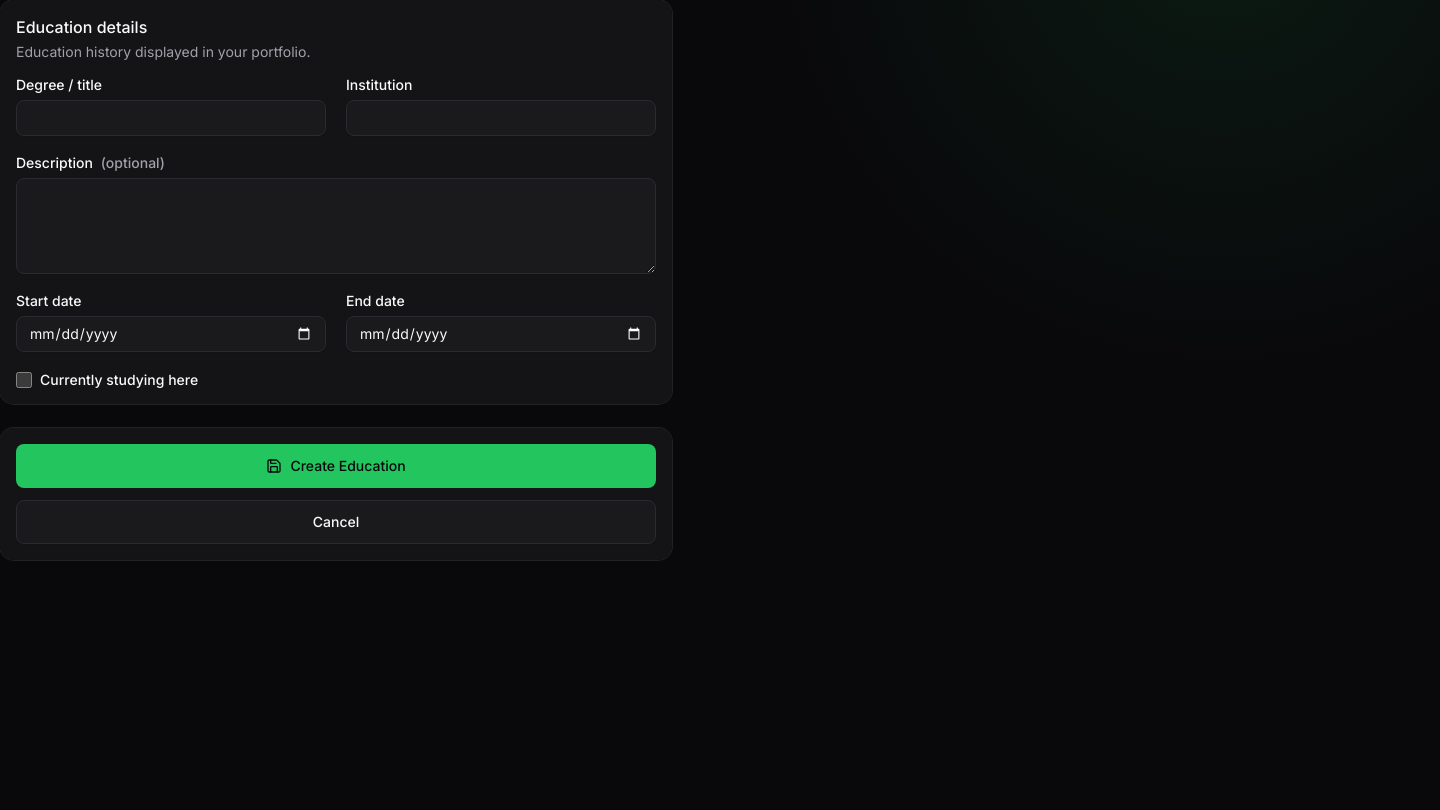
Test: EducationForm › shows root error when submission fails
Step 1. Type "BSc CS" into the field labelled "Degree / title" → (171, 118), box [16, 100, 326, 136]
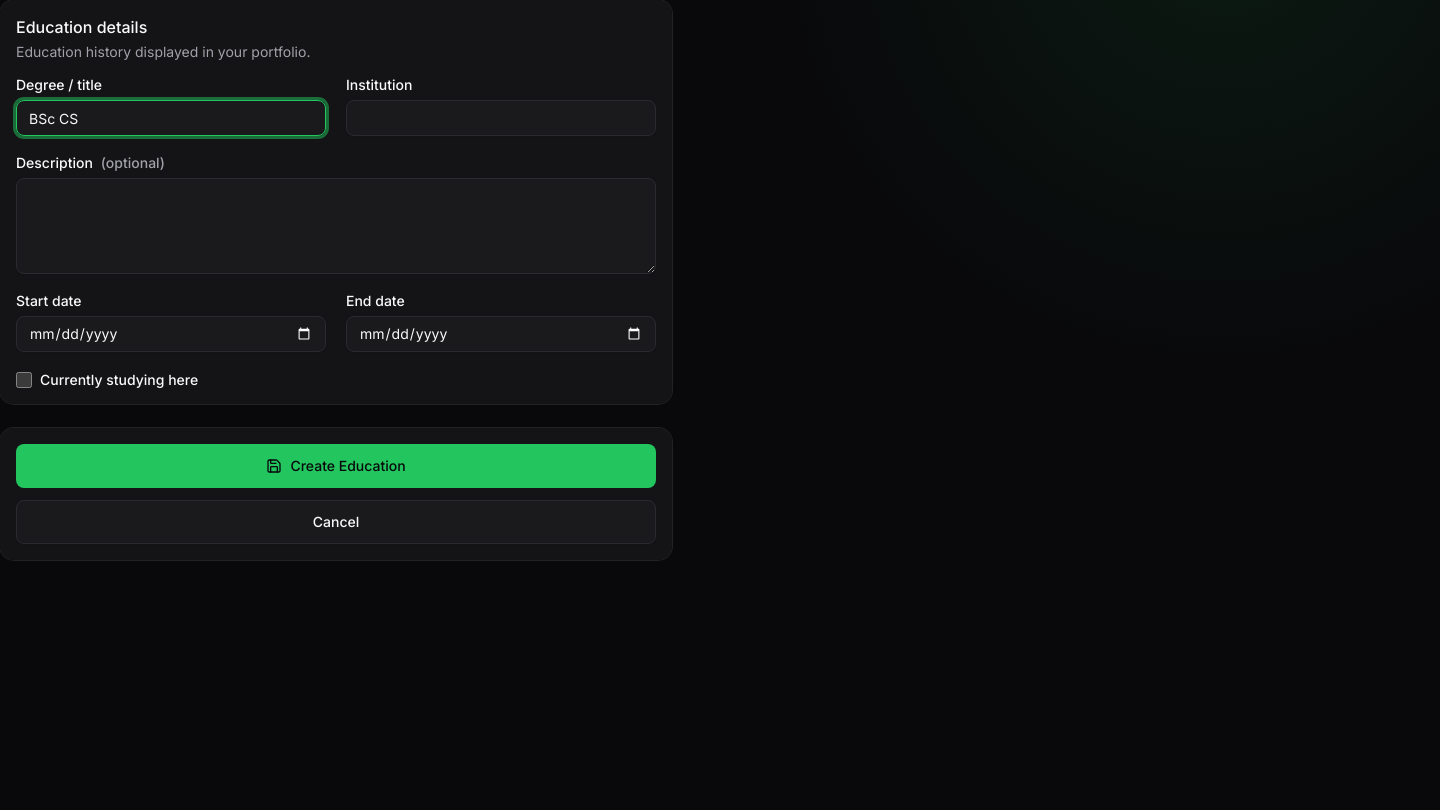
Step 2. Type "MIT" into the field labelled "Institution" → (501, 118), box [346, 100, 656, 136]
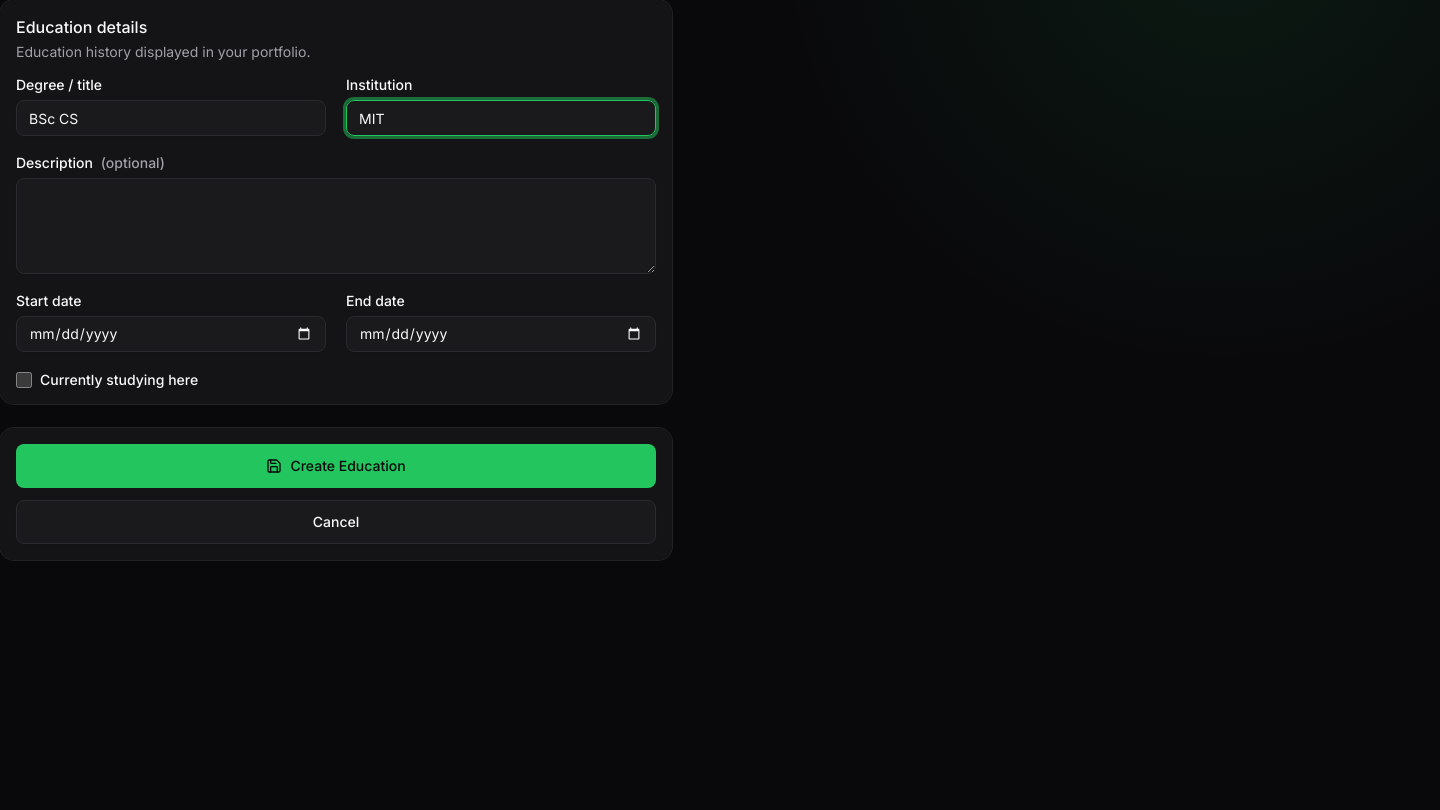
Step 3. Type "2018-09-01" into the date field labelled "Start date" → (171, 334), box [16, 316, 326, 352]
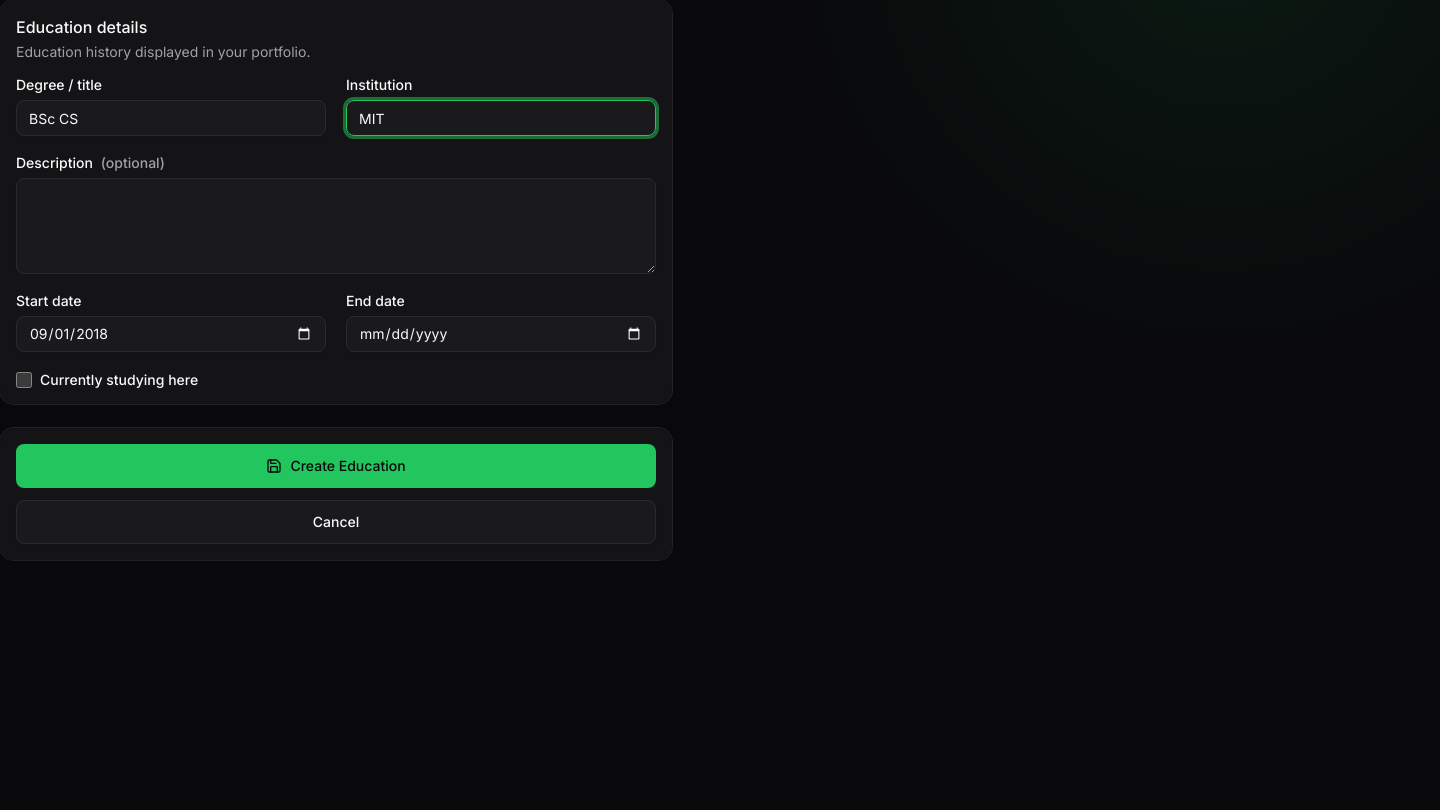
Step 4. Click the checkbox labelled "Currently studying here" → click(24, 380), box [16, 372, 32, 388]
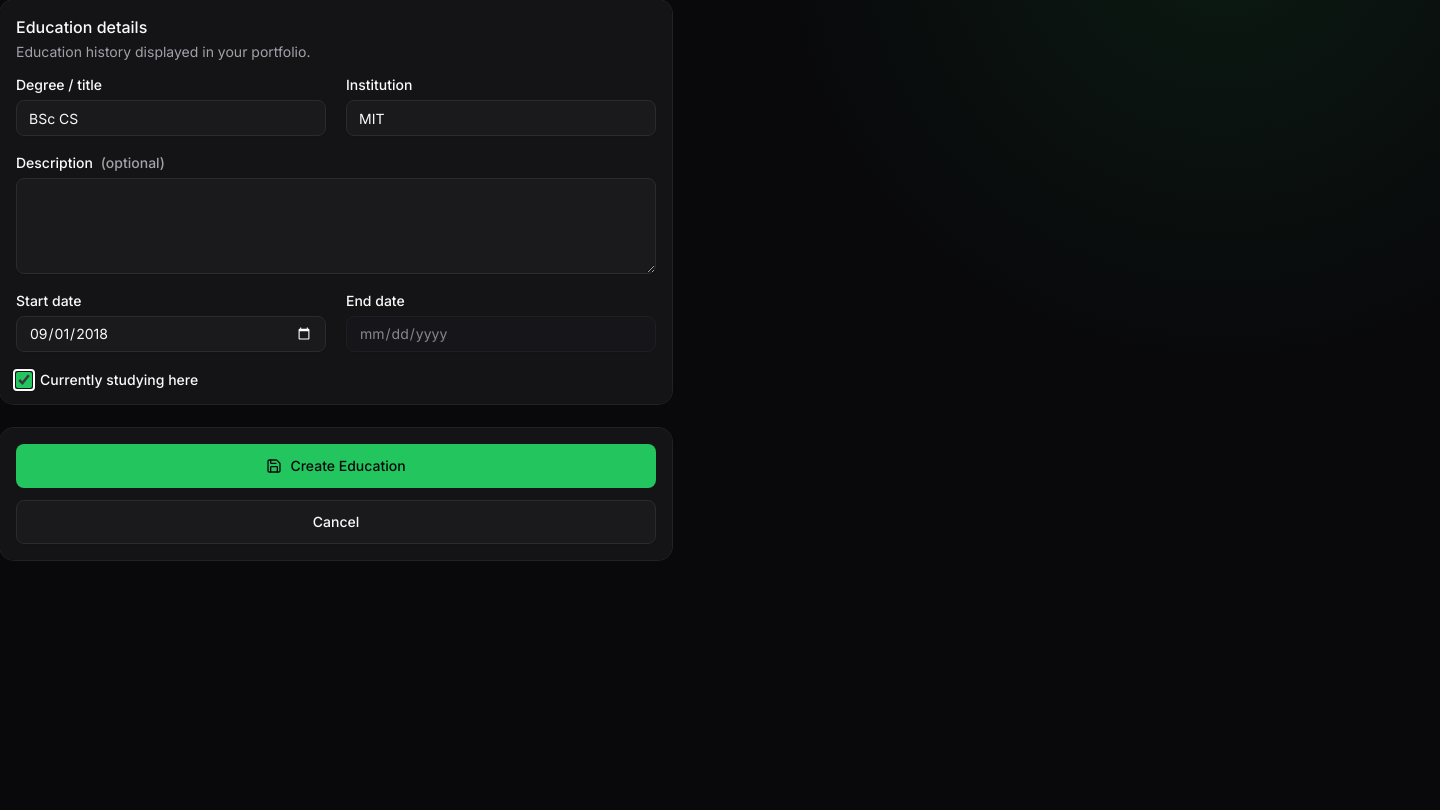
Step 5. Click the button "Create Education" → click(336, 466), box [16, 444, 656, 488]
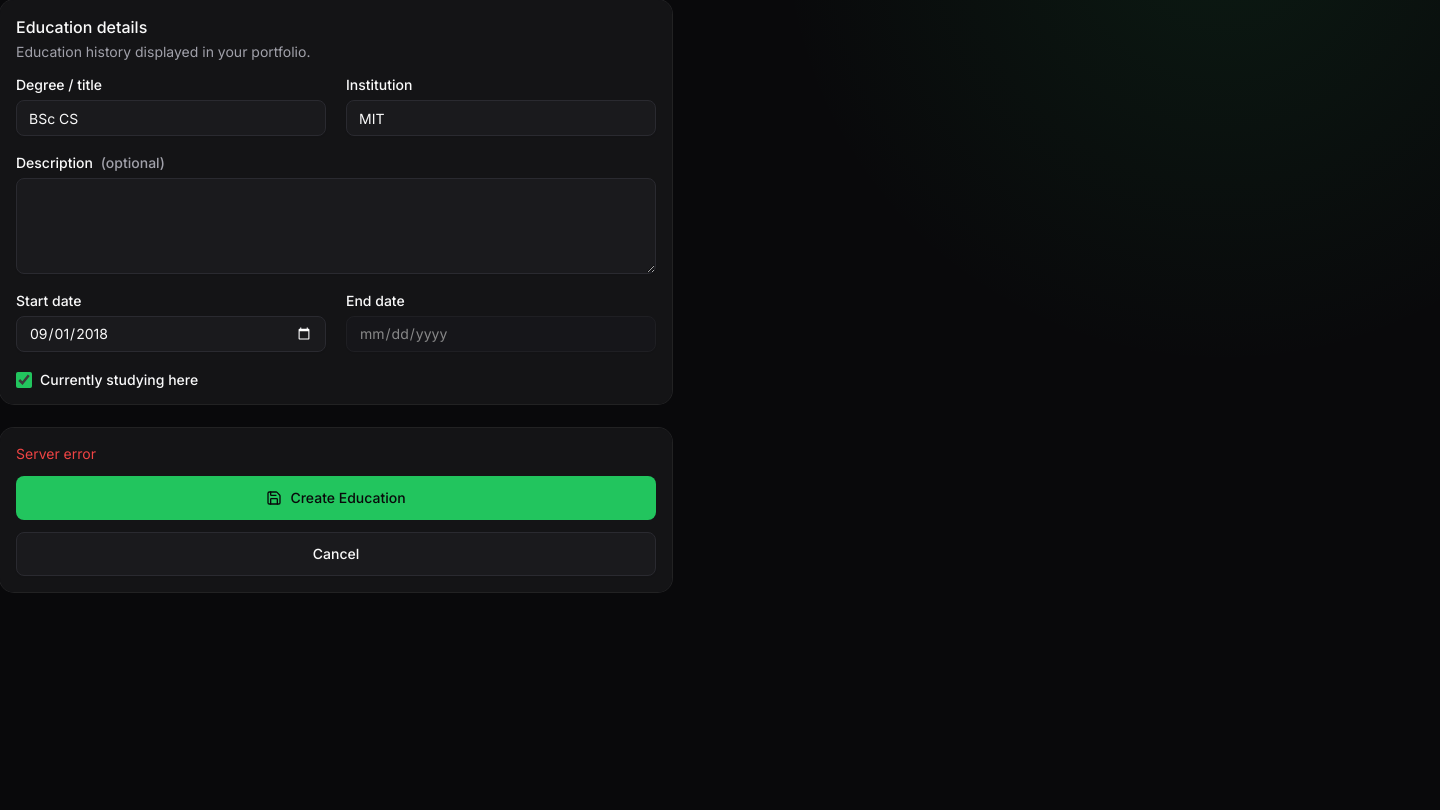
Expected: the message reads "Server error", [16, 445, 96, 462]
